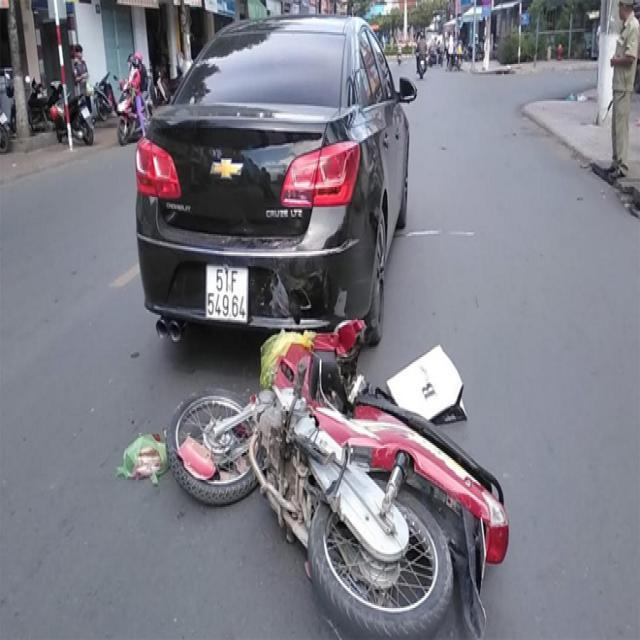multiple_accident: (111, 5, 514, 640)
normal: (57, 31, 156, 150)
